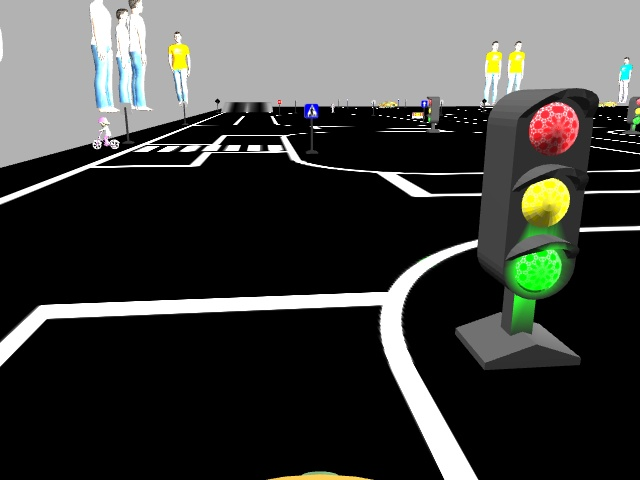Crosswalk: (304, 103, 317, 118)
Pedestrian: (92, 115, 119, 148)
TrafficLight: (473, 90, 601, 296)
